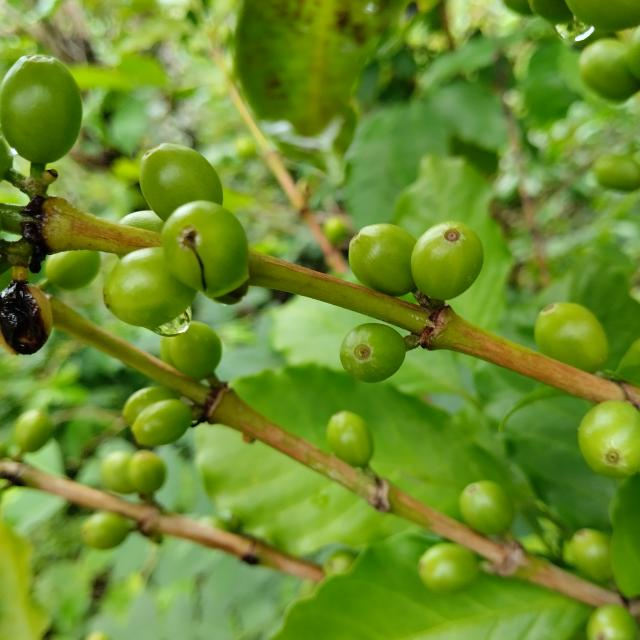green: (0, 54, 81, 163), (161, 200, 248, 293), (102, 247, 196, 329), (139, 142, 222, 220), (411, 221, 485, 300), (411, 221, 485, 300), (411, 221, 485, 300), (535, 302, 609, 373), (535, 302, 609, 373), (349, 223, 417, 296), (349, 223, 417, 296), (579, 401, 640, 479), (340, 324, 407, 383), (160, 321, 222, 381), (160, 321, 222, 381), (580, 38, 640, 100), (419, 544, 479, 594), (419, 544, 479, 594), (460, 481, 515, 535), (460, 481, 515, 535), (131, 400, 192, 447), (564, 529, 614, 583), (327, 411, 374, 468), (327, 411, 374, 468), (122, 386, 179, 426), (44, 250, 100, 290), (566, 0, 640, 30), (80, 512, 129, 550), (12, 409, 52, 453), (588, 606, 639, 640), (128, 451, 166, 496), (101, 451, 134, 494), (118, 210, 164, 232)
red: (0, 279, 51, 354)
